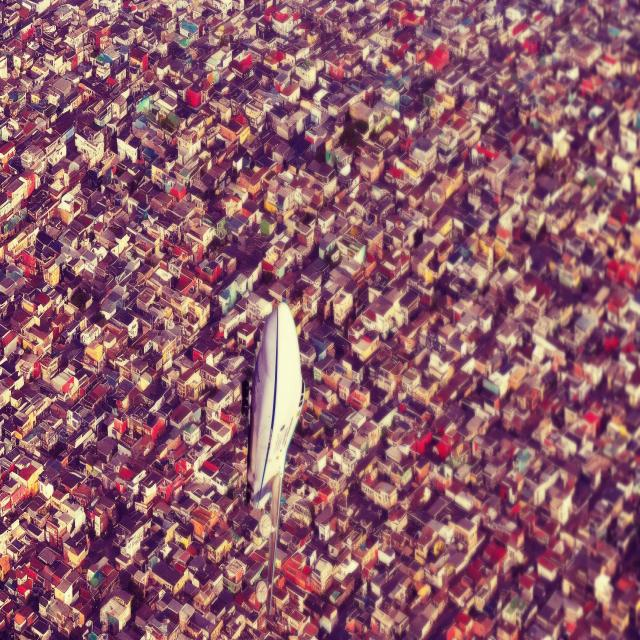airplane: (245, 301, 307, 615)
